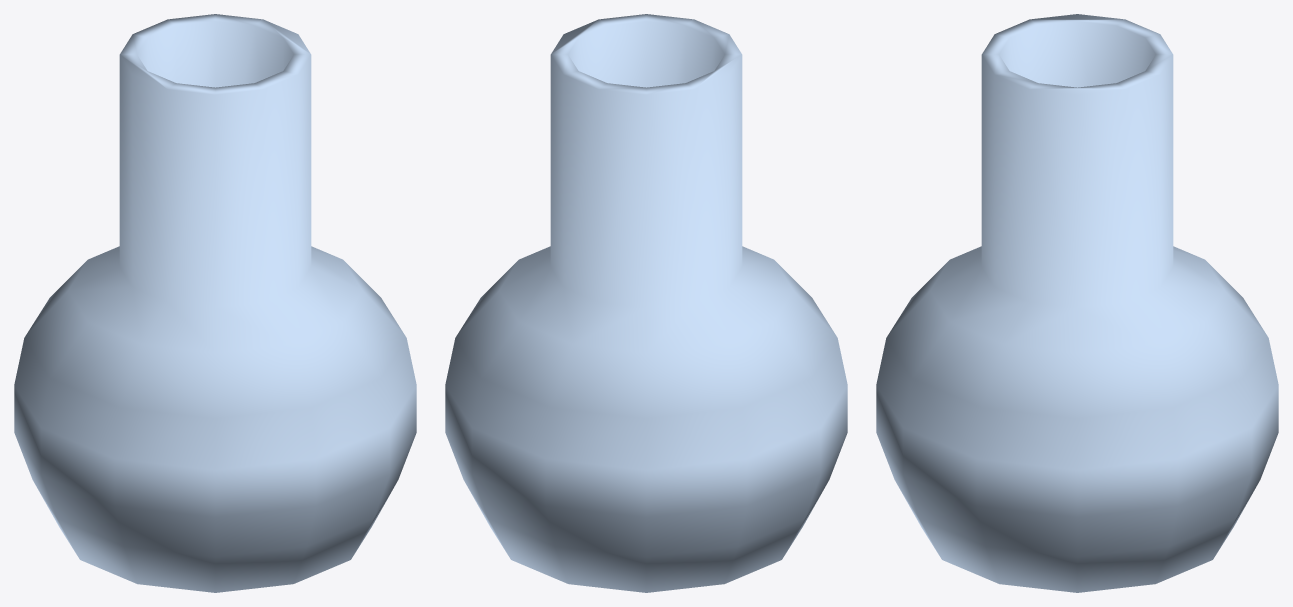
The model's file is flask-03.fbx.
3 renders of one model, left to right at view 1: azimuth 30°, elevation 25°; view 2: azimuth 150°, elevation 25°; view 3: azimuth 270°, elevation 25°, orthographic.
Parts seen in each view (by area): view 1: flask-03; view 2: flask-03; view 3: flask-03.
Boxes of the visible parts, x1,y1,x2,y2 form: flask-03: (14,14,416,592); flask-03: (445,14,847,592); flask-03: (876,14,1278,592).
Size of the model in its own units: 7.72 by 10 by 7.72.
